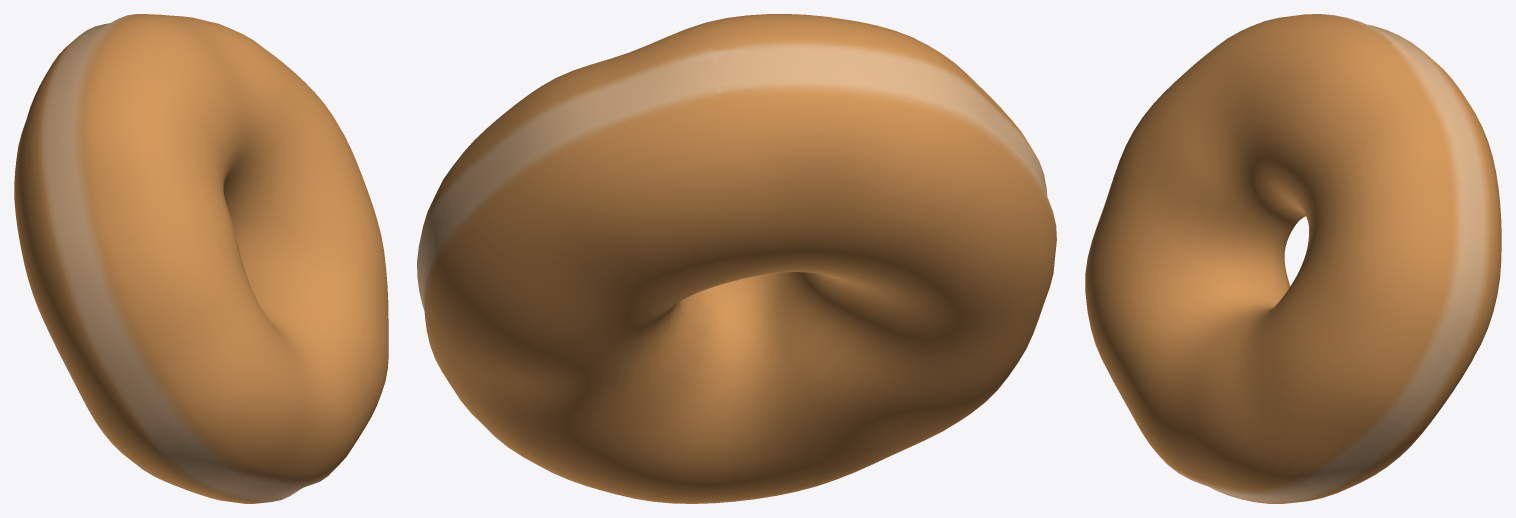
File: Donut1.glb
The picture shows the model from 3 angles, left to right: view 1: azimuth 30°, elevation 25°; view 2: azimuth 150°, elevation 25°; view 3: azimuth 270°, elevation 25°; orthographic projection. The views are drawn at different scales.
Visible parts, largest first — view 1: Donut; view 2: Donut; view 3: Donut.
Part boxes in pixels (x1,y1,x2,y2): Donut: (14,14,388,503); Donut: (417,14,1056,503); Donut: (1085,14,1501,503).
Bounding box in the file's own units: 0.0874 × 0.091 × 0.0827.
Materials: 1 (1 with a texture image).
